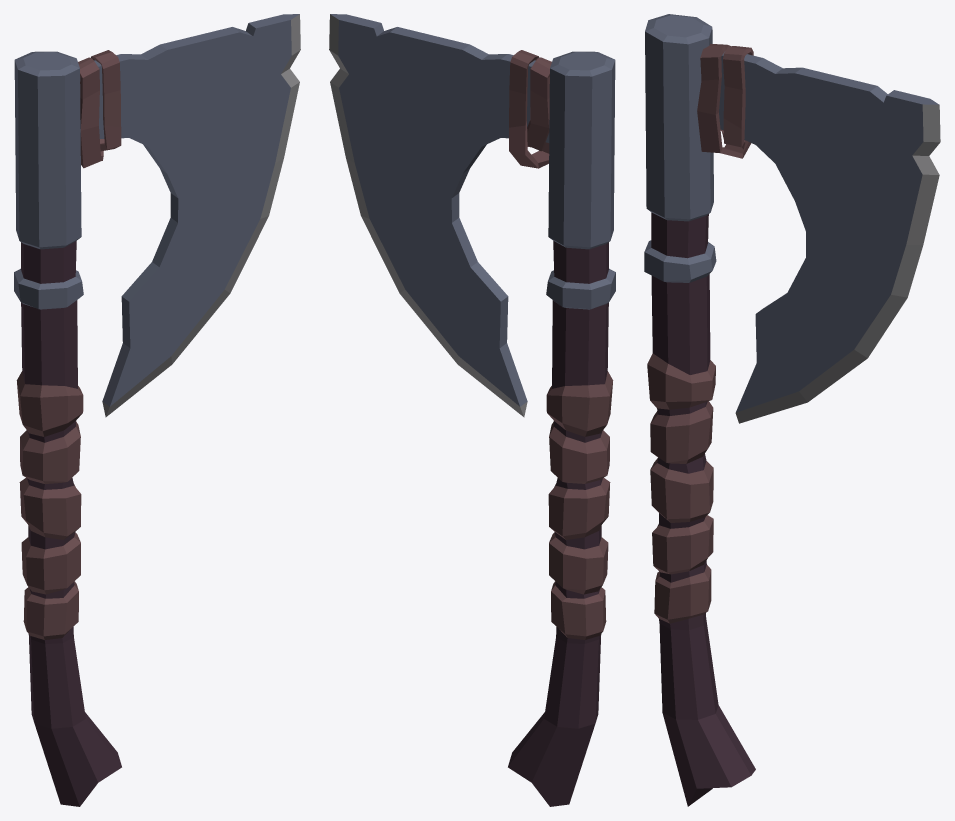
File: Axe Small.glb
The picture shows the model from 3 angles, left to right: view 1: azimuth 30°, elevation 25°; view 2: azimuth 150°, elevation 25°; view 3: azimuth 330°, elevation 25°; orthographic projection. The views are drawn at different scales.
Parts seen in each view (by area): view 1: Axe_small; view 2: Axe_small; view 3: Axe_small.
Boxes of the visible parts, x1,y1,x2,y2 form: Axe_small: (14,14,300,806); Axe_small: (329,14,615,806); Axe_small: (644,14,940,806).
Bounding box in the file's own units: 0.6236 × 1.57 × 0.1322.
